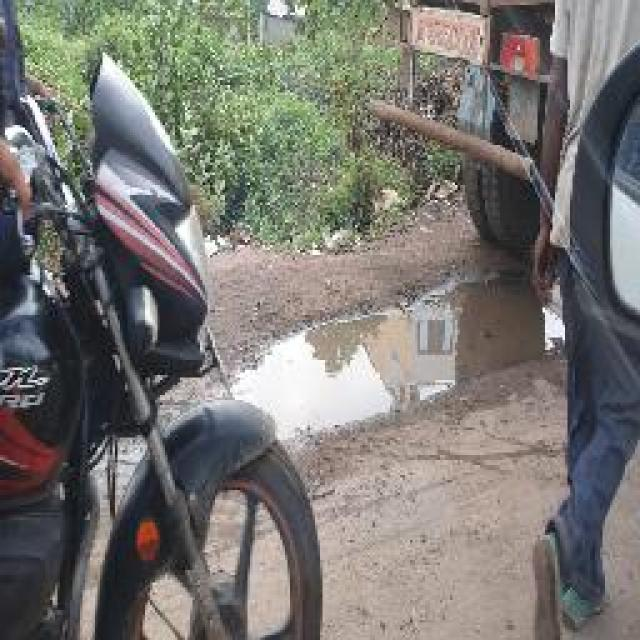waterlogging: (244, 289, 557, 429)
